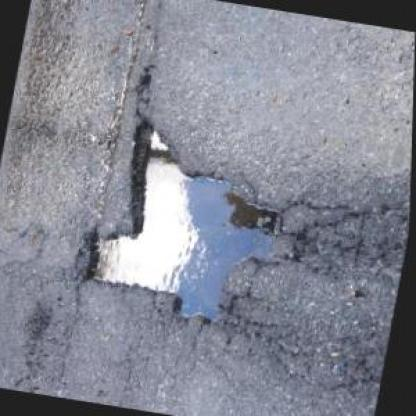pothole: (67, 110, 306, 337)
